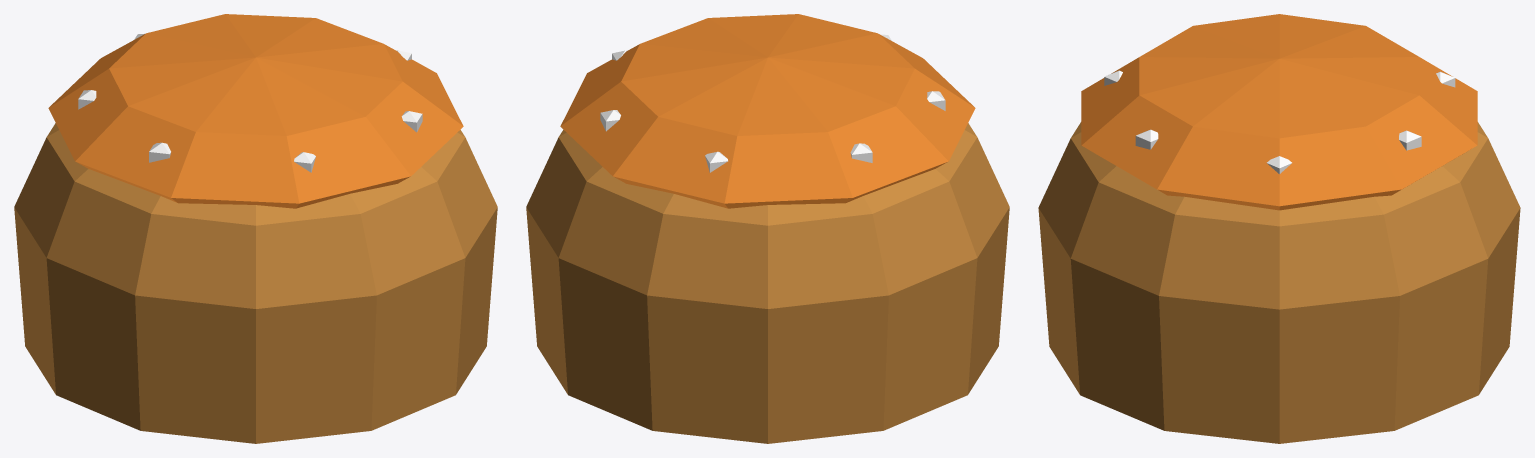
The model's file is sweet_bread.glb.
The picture shows the model from 3 angles, left to right: view 1: azimuth 30°, elevation 25°; view 2: azimuth 150°, elevation 25°; view 3: azimuth 270°, elevation 25°; orthographic projection.
Visible parts, largest first — view 1: bread_crust (×2), glaze_glaze; view 2: bread_crust (×2), glaze_glaze; view 3: bread_crust (×2), glaze_glaze.
Boxes of the visible parts, x1,y1,x2,y2 form: bread_crust (×2): (14,123,497,443); glaze_glaze: (48,14,463,208); bread_crust (×2): (526,123,1009,443); glaze_glaze: (560,14,975,208); bread_crust (×2): (1038,122,1520,443); glaze_glaze: (1081,14,1477,210).
Bounding box in the file's own units: 0.22 × 0.145 × 0.22.
